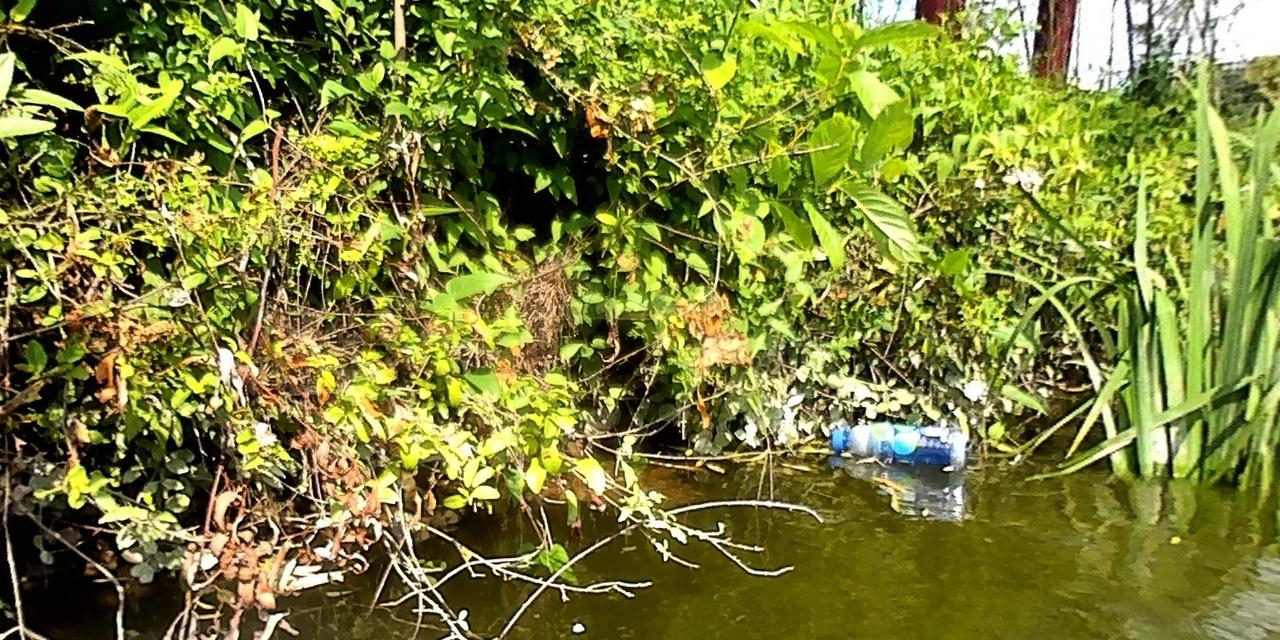bottle: (830, 413, 966, 472)
